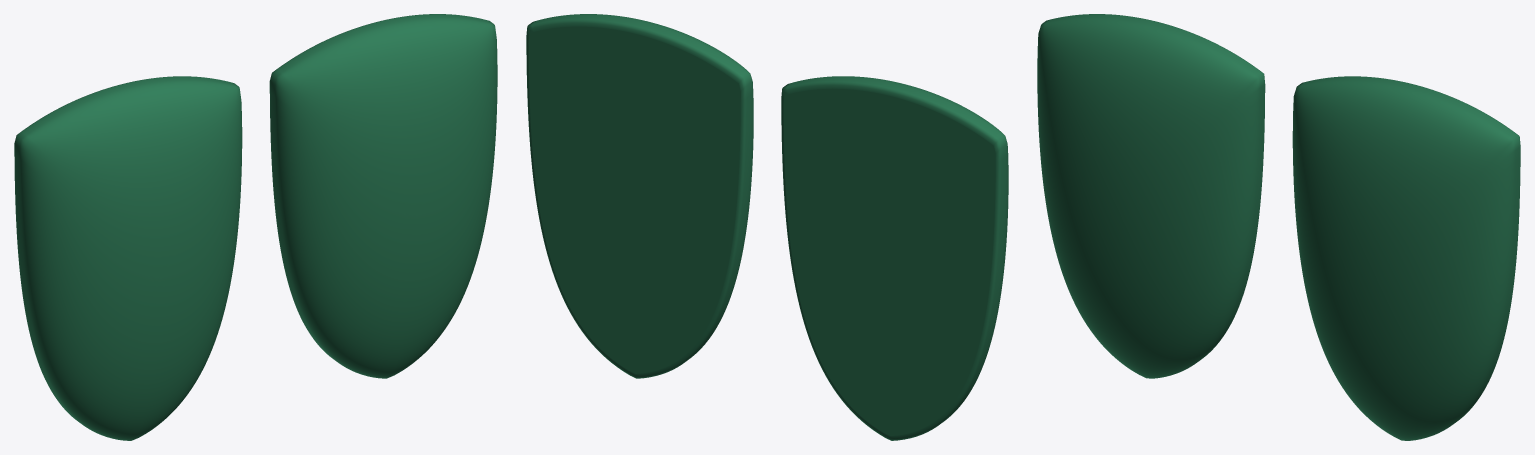
File: matched-pair-v1.glb
The picture shows the model from 3 angles, left to right: view 1: azimuth 30°, elevation 25°; view 2: azimuth 150°, elevation 25°; view 3: azimuth 330°, elevation 25°; orthographic projection.
Visible parts, largest first — view 1: Shield Cabochon 23x15x4mm, Shield Cabochon 23x15x4mm.001; view 2: Shield Cabochon 23x15x4mm, Shield Cabochon 23x15x4mm.001; view 3: Shield Cabochon 23x15x4mm.001, Shield Cabochon 23x15x4mm.
Boxes of the visible parts, x1,y1,x2,y2 form: Shield Cabochon 23x15x4mm: [14, 76, 242, 440]; Shield Cabochon 23x15x4mm.001: [269, 14, 497, 378]; Shield Cabochon 23x15x4mm: [781, 76, 1008, 440]; Shield Cabochon 23x15x4mm.001: [526, 14, 753, 378]; Shield Cabochon 23x15x4mm.001: [1292, 76, 1520, 440]; Shield Cabochon 23x15x4mm: [1037, 14, 1265, 378].
Bounding box in the file's own units: 0.0324 × 0.023 × 0.00398.
